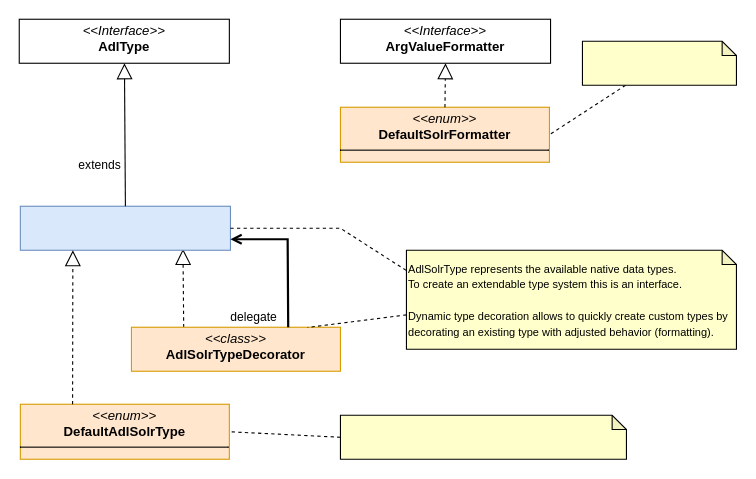
Some shapes in this 756 by 479 pixel diagram are drawn without their labels. Each missing label, with the box of its shape:
<<Interface>> AdlSolrType: (19, 205, 230, 250)
A set of common Solr-types for easy mapping of native types to ADL-types: (339, 414, 626, 459)
Set of formatters for a set of common Solr-Types.: (581, 40, 736, 85)
